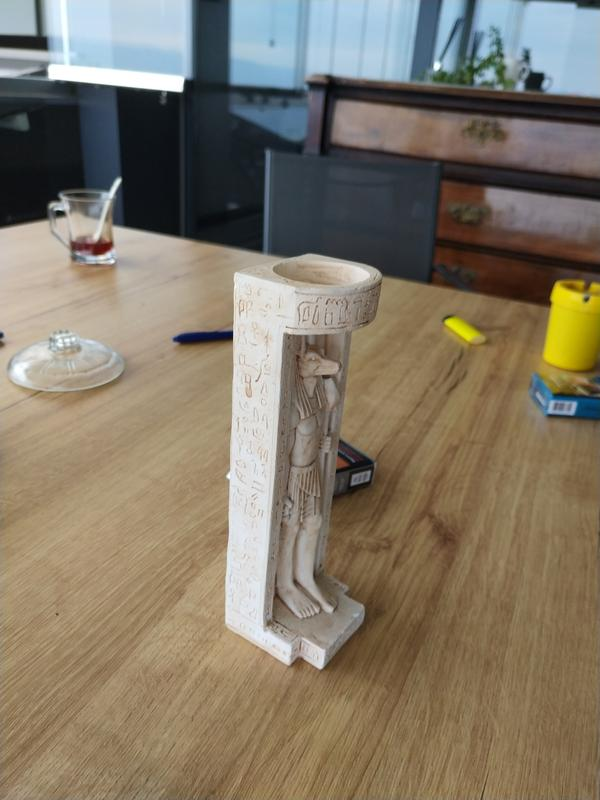heykel: (216, 246, 390, 676)
